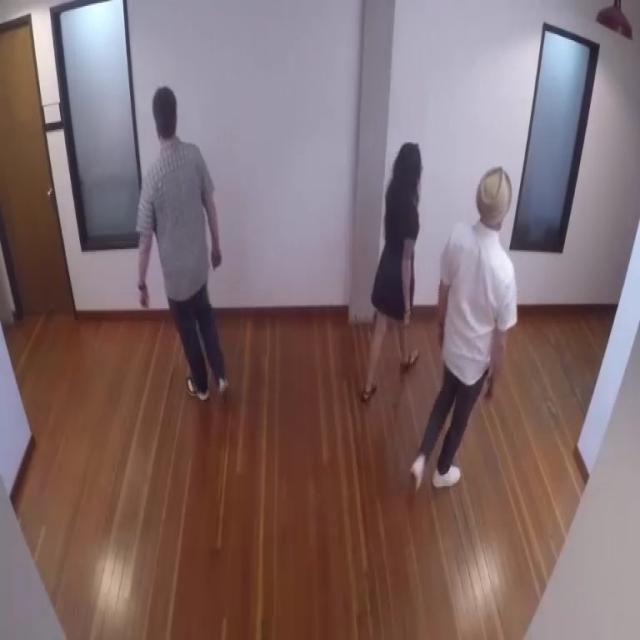Stupid: (409, 164, 518, 492), (135, 85, 228, 402), (358, 141, 422, 403)
